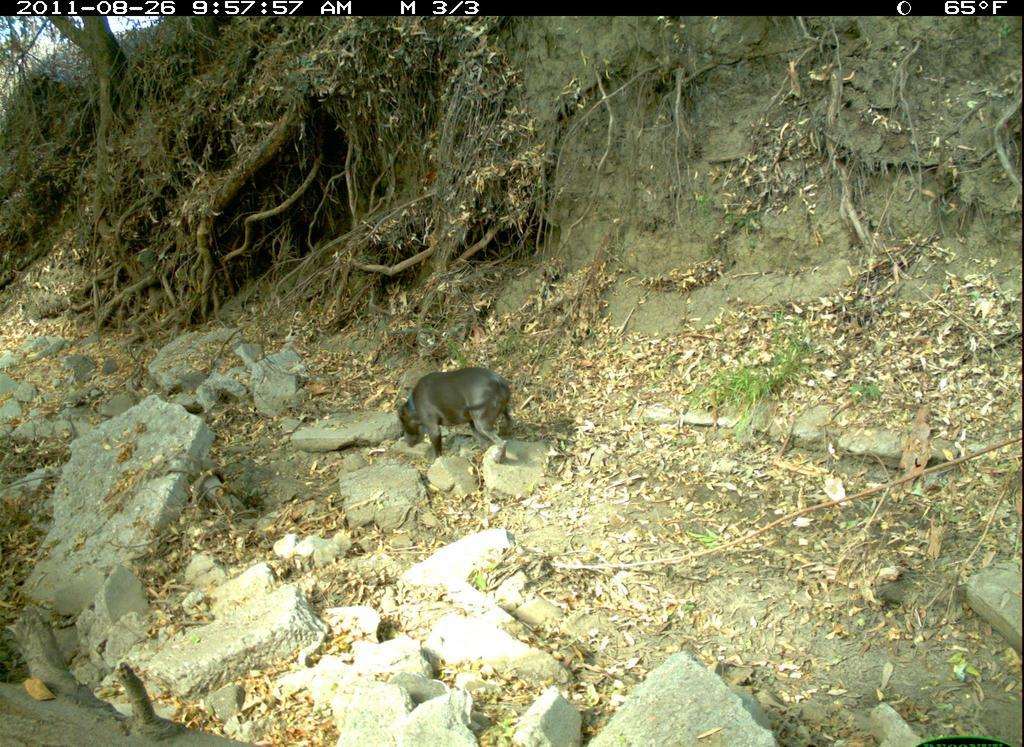dog: (397, 365, 516, 465)
